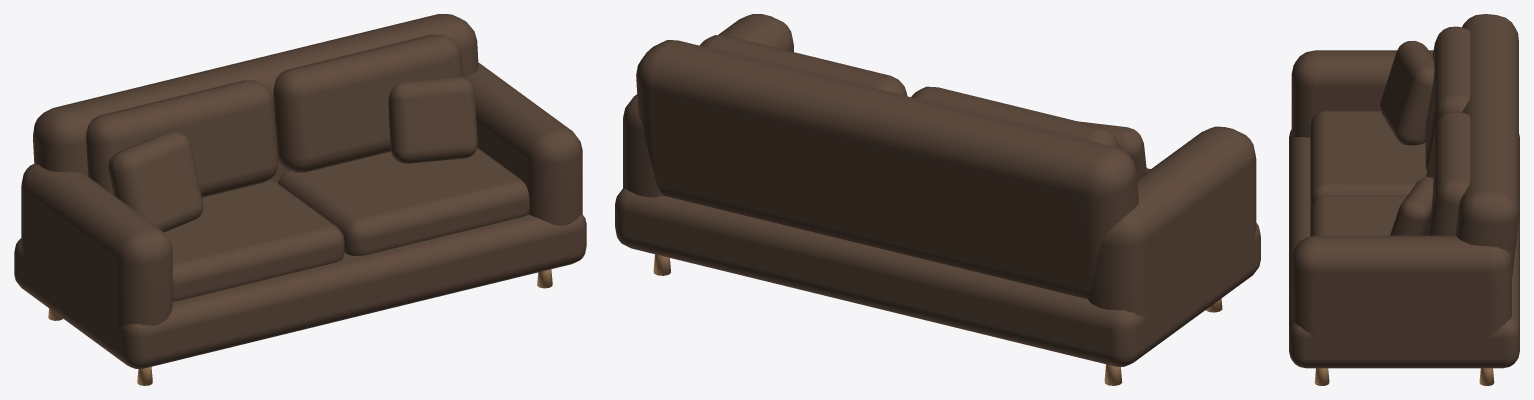
Rendered from sofa.glb.
3 views of the same model, side by side, from view 1: azimuth 30°, elevation 25°; view 2: azimuth 150°, elevation 25°; view 3: azimuth 270°, elevation 25° (orthographic). The views are drawn at different scales.
Parts seen in each view (by area): view 1: sofa; view 2: sofa; view 3: sofa.
Part boxes in pixels (x1,y1,x2,y2): sofa: (14,14,586,385); sofa: (615,14,1260,385); sofa: (1289,14,1519,385).
Bounding box in the file's own units: 1.86 × 0.7852 × 0.8689.
